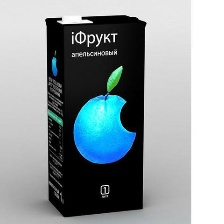carton: (41, 9, 153, 218)
